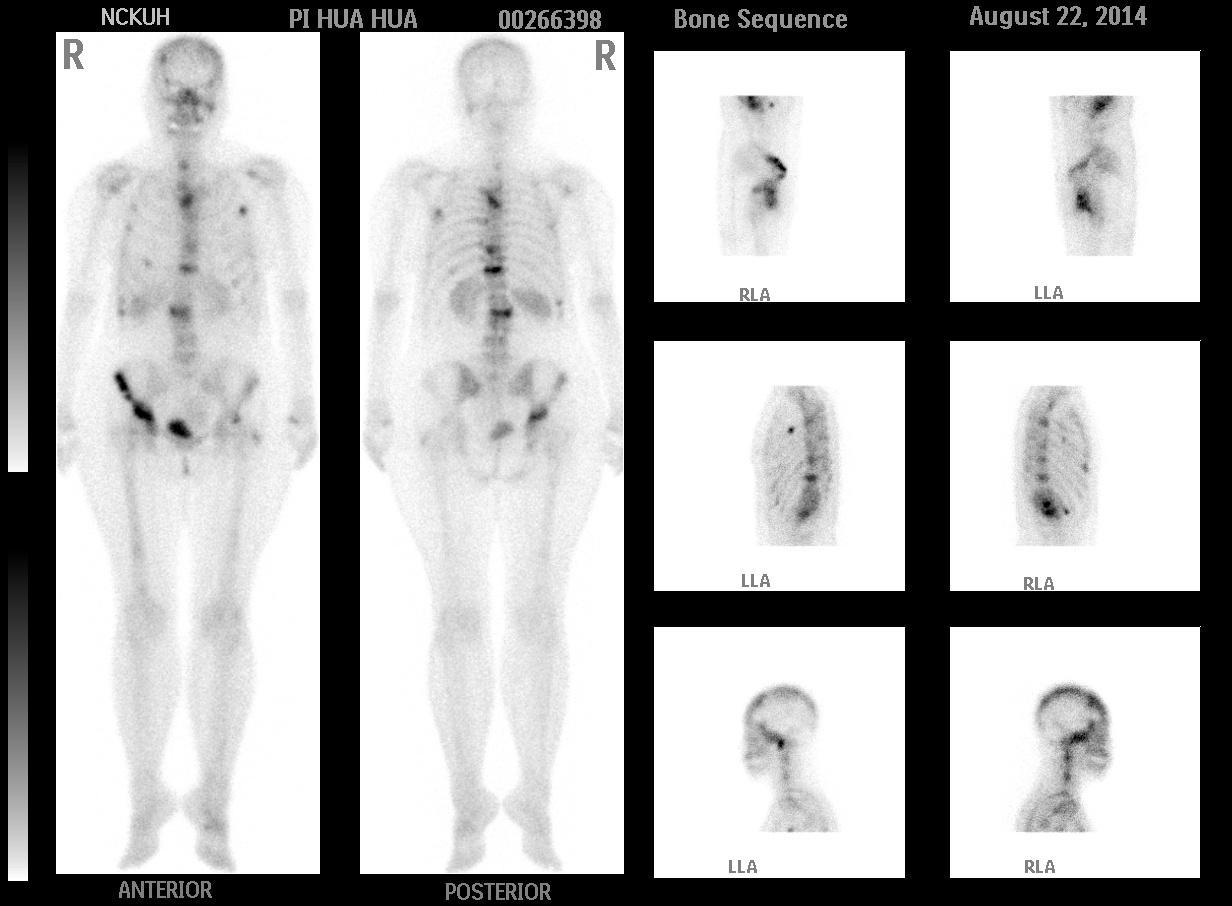person: (54, 32, 624, 877)
